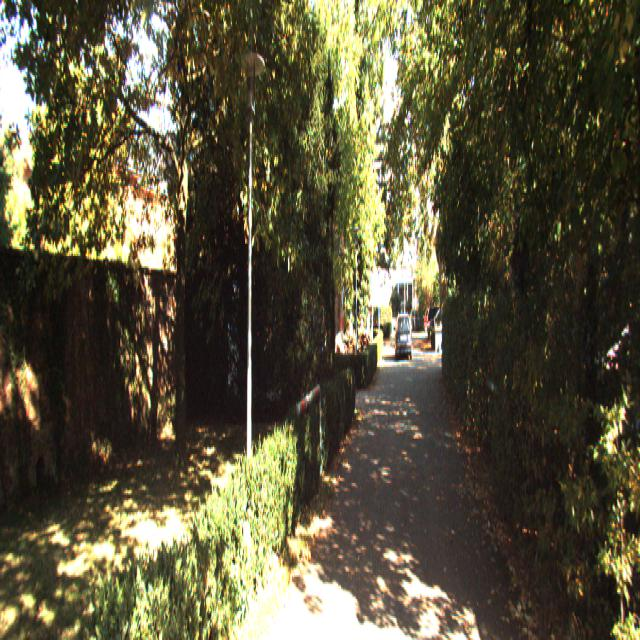Car: (396, 311, 413, 361)
